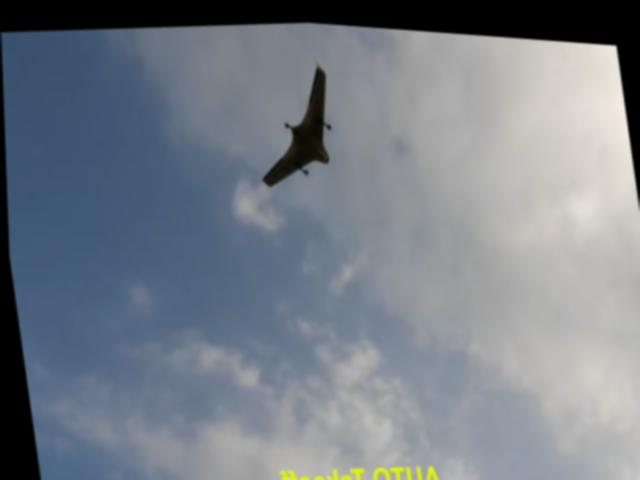plane: (247, 54, 341, 191)
